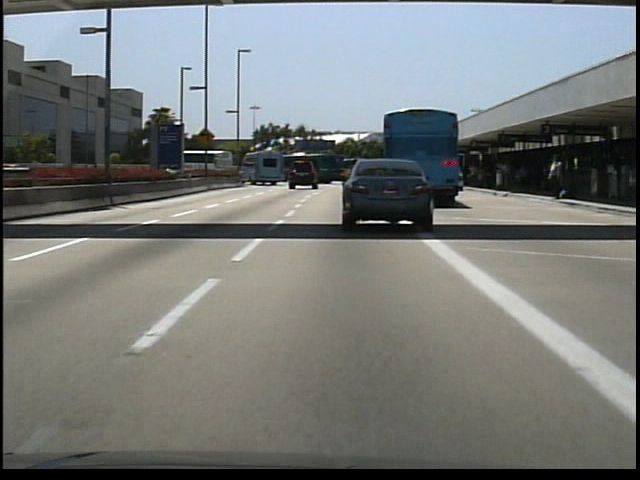person: (544, 153, 566, 202)
